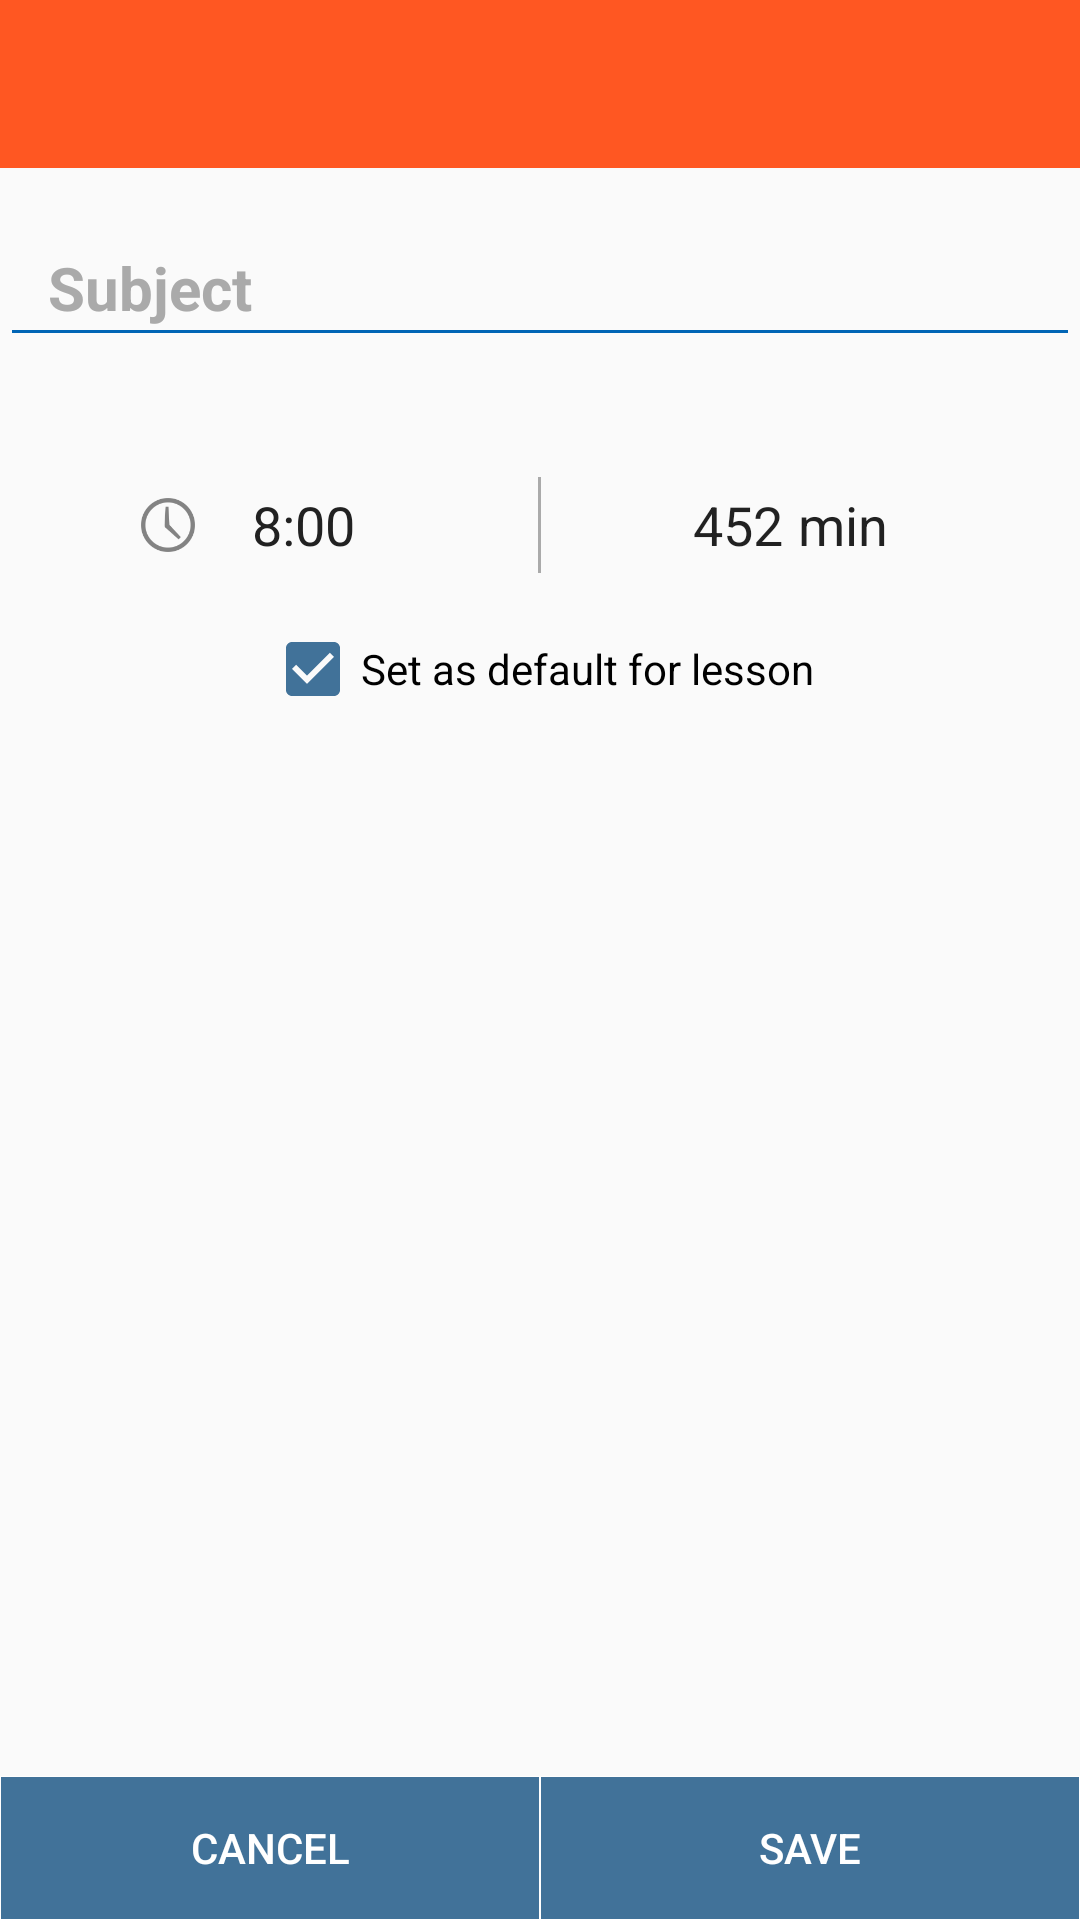

Screen size 1080*1920. Icon name, then its center in pixels as (x,y):
clock: (168,525)
